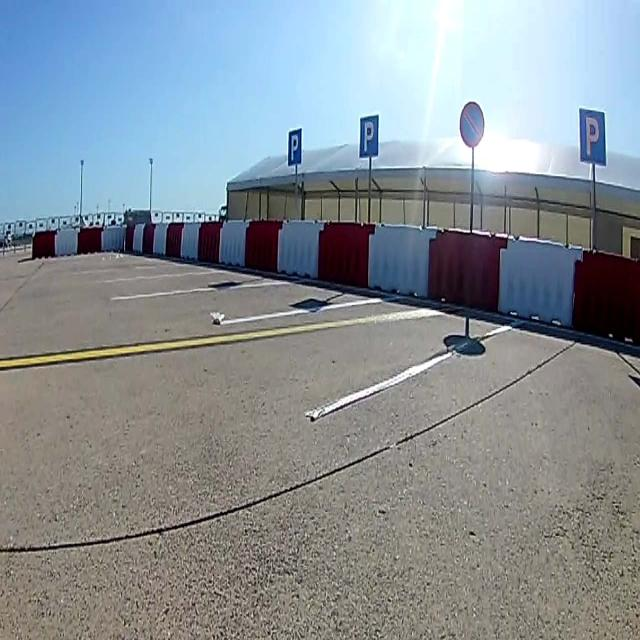park: (580, 110, 606, 167), (359, 115, 378, 156), (288, 130, 302, 164)
parkyasak: (460, 102, 484, 146)
